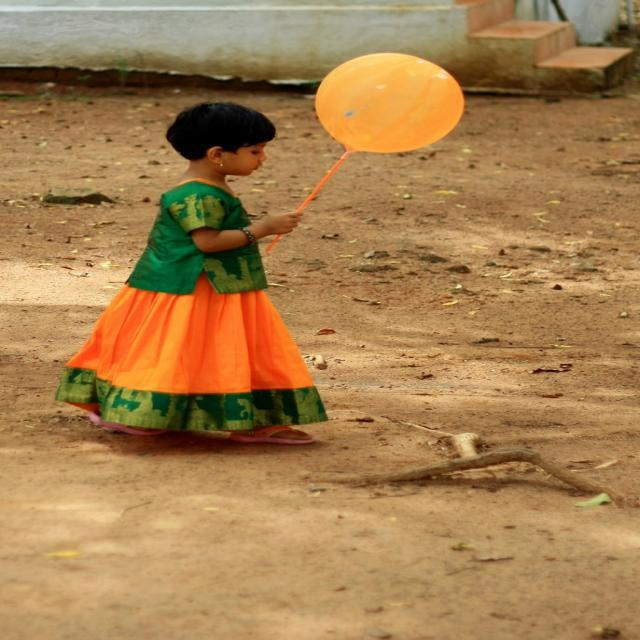balloon: (315, 48, 467, 154)
